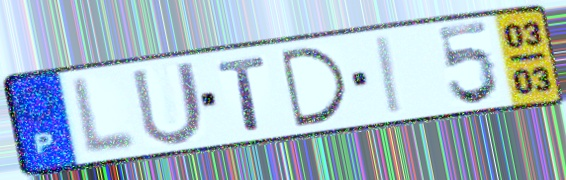5: (435, 18, 502, 108)
D: (275, 44, 352, 130)
I: (375, 33, 406, 118)
L: (70, 73, 141, 158)
T: (214, 53, 271, 134)
U: (128, 58, 208, 148)
